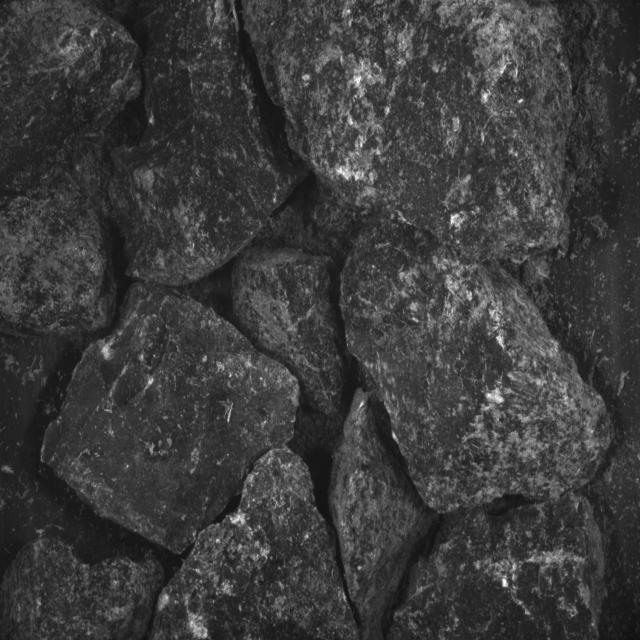Stones: (245, 1, 574, 259), (341, 221, 614, 514), (42, 284, 300, 555), (111, 1, 305, 287), (1, 1, 142, 336), (152, 449, 359, 640), (390, 495, 605, 640), (330, 390, 437, 640), (234, 248, 345, 415), (1, 539, 165, 640)
